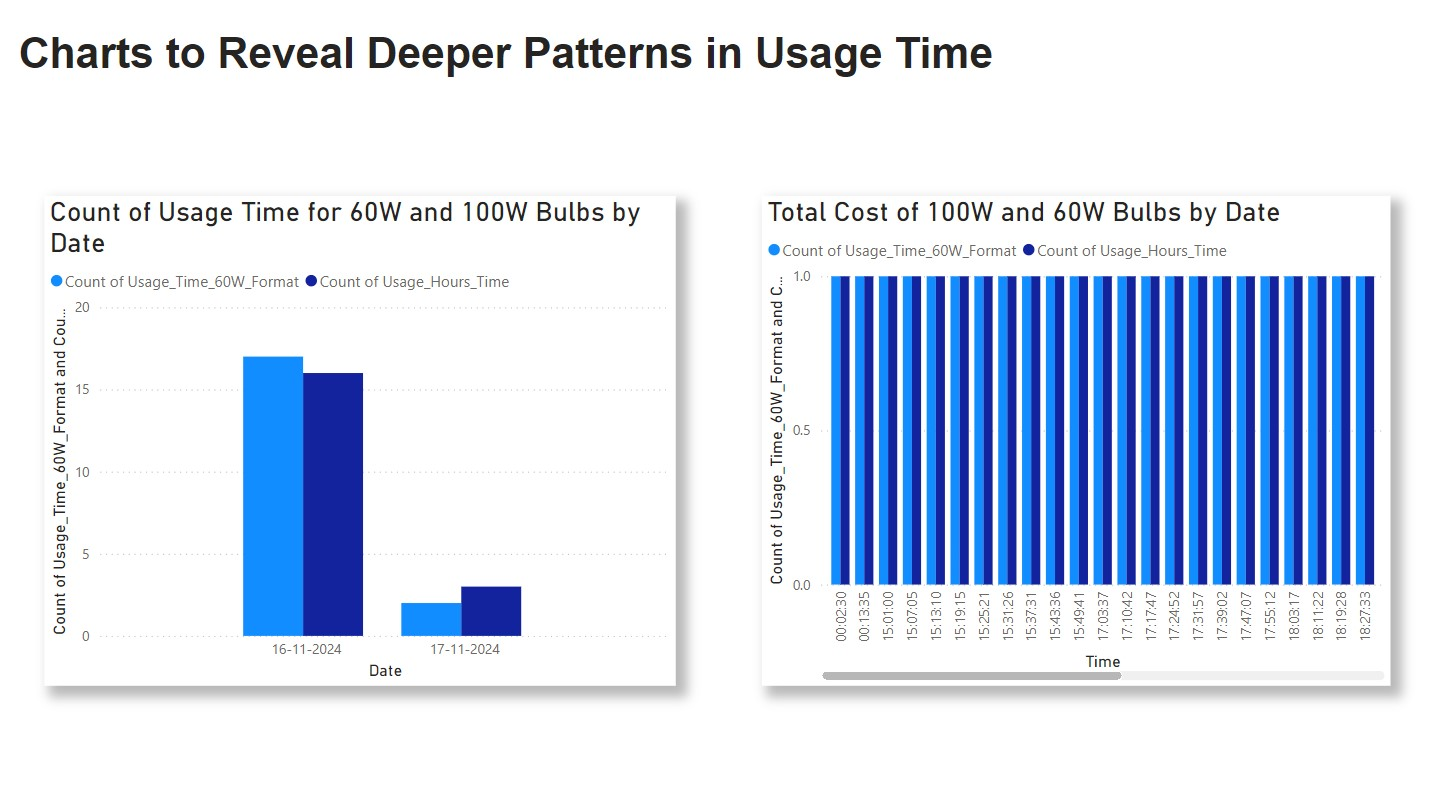

The dashboard page shown, as its layout file describes it:
{"tool":"powerbi","page":{"name":"Page 5","canvas":[1280,700],"ordinal":4},"visuals":[{"type":"textbox","box":[17.8,22.6,1161.5,76.1],"z":0},{"type":"lineClusteredColumnComboChart","title":"Total Cost of 100W and 60W Bulbs by Date","fields":{"Category":["100w_Table.Time"],"Y":["Count(60w_Table.Usage_Time_60W_Format)","Count(100w_Table.Usage_Hours_Time)"]},"box":[674.1,173.8,551.1,429.6],"z":1000},{"type":"lineClusteredColumnComboChart","title":"Count of Usage Time for 60W and 100W Bulbs by Date","fields":{"Y":["Count(60w_Table.Usage_Time_60W_Format)","Count(100w_Table.Usage_Hours_Time)"],"Category":["100w_Table.Date"]},"box":[45.2,173.8,553.9,429.6],"z":2000}]}

Visuals, with their boxes in screenshot pixels (x1, y1, x2, y2), scaled from the page's 1280x700 canvas onto the 1452x790 screenshot:
textbox: left=20, top=26, right=1338, bottom=111
"Total Cost of 100W and 60W Bulbs by Date" lineClusteredColumnComboChart: left=765, top=196, right=1390, bottom=681
"Count of Usage Time for 60W and 100W Bulbs by Date" lineClusteredColumnComboChart: left=51, top=196, right=680, bottom=681
